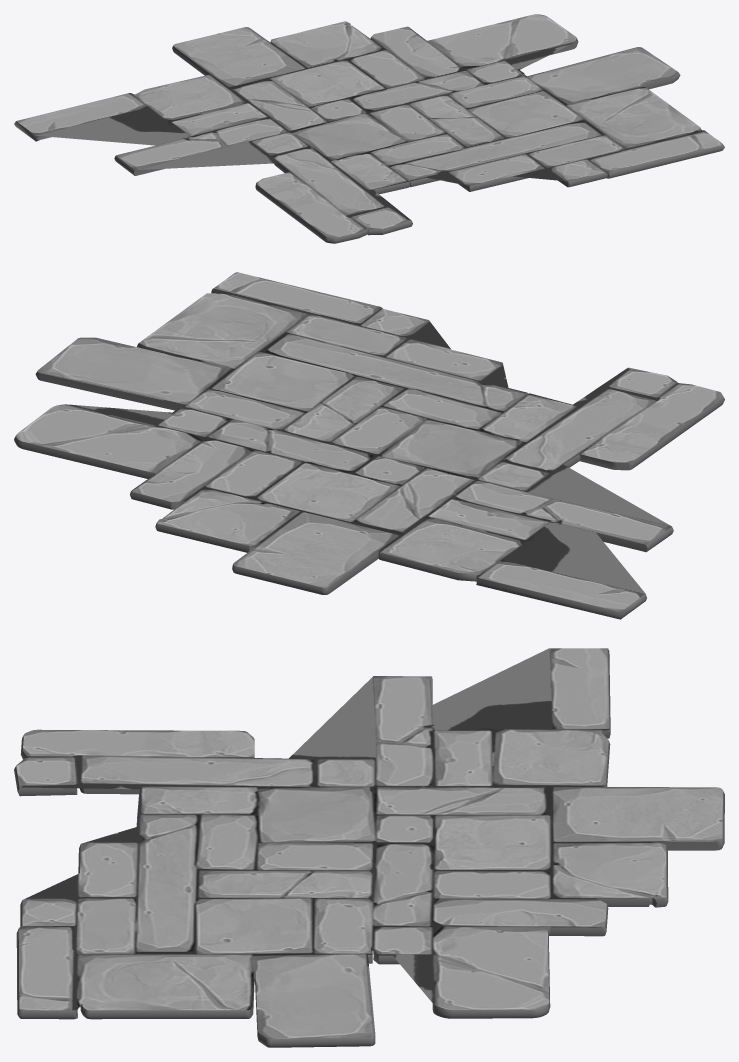
Rendered from stonesfloor.fbx.
3 views of the same model, one above another, from view 1: azimuth 30°, elevation 25°; view 2: azimuth 150°, elevation 25°; view 3: azimuth 270°, elevation 25° (orthographic). The views are drawn at different scales.
Parts seen in each view (by area): view 1: loftedSurface1; view 2: loftedSurface1; view 3: loftedSurface1.
Part boxes in pixels (left/top/right/bottom): loftedSurface1: left=14, top=14, right=724, bottom=243; loftedSurface1: left=14, top=272, right=724, bottom=619; loftedSurface1: left=14, top=648, right=724, bottom=1047.
Bounding box in the file's own units: 26.37 × 0.2721 × 20.15.
Materials: 1 (1 with a texture image).
